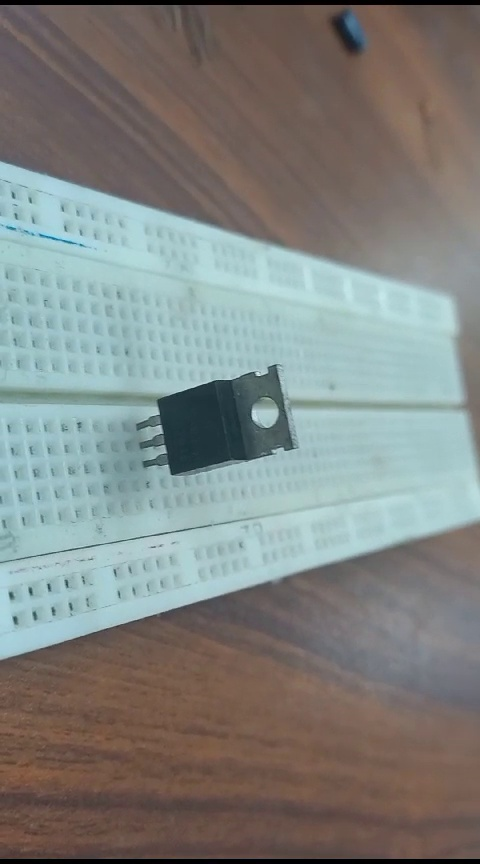voltage regulator: (122, 360, 308, 484)
